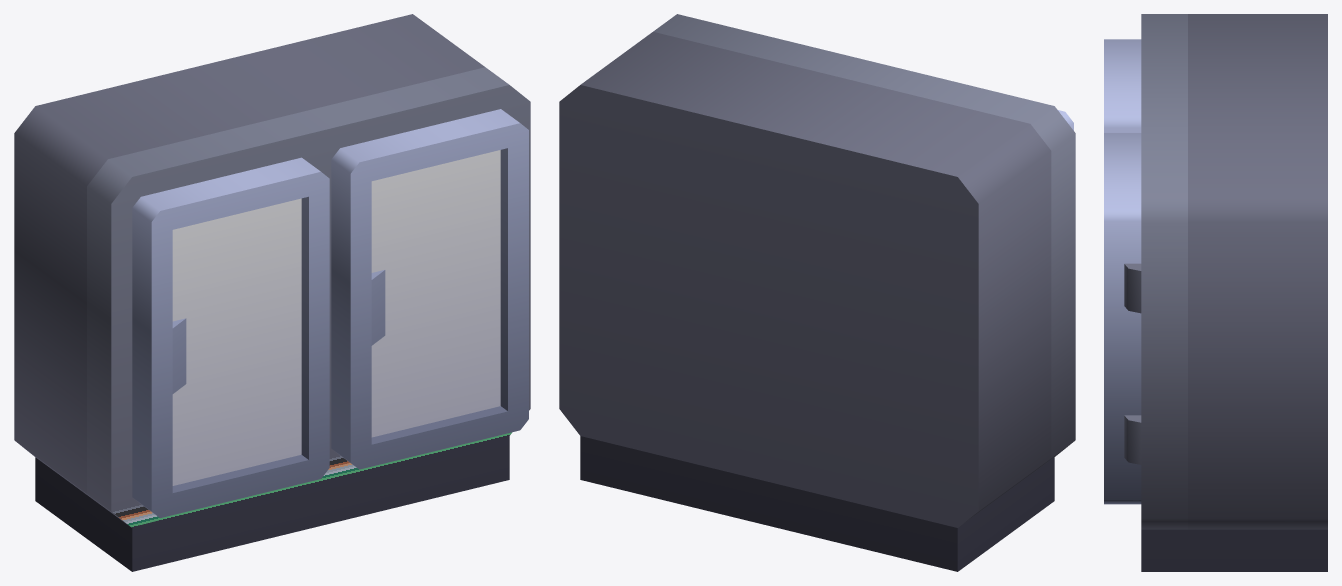
File: freezers-standing.obj
3 renders of one model, left to right at view 1: azimuth 30°, elevation 25°; view 2: azimuth 150°, elevation 25°; view 3: azimuth 270°, elevation 25°, orthographic. The views are drawn at different scales.
Visible parts, largest first — view 1: freezers-standing; view 2: freezers-standing; view 3: freezers-standing.
Part boxes in pixels (x1,y1,x2,y2): freezers-standing: (14, 14, 530, 571); freezers-standing: (559, 14, 1075, 571); freezers-standing: (1104, 14, 1327, 571).
Bounding box in the file's own units: 1 × 0.9 × 0.48.
1 material, 1 textured.
